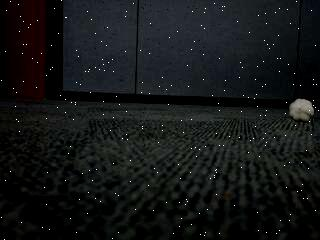Garlic: (288, 98, 315, 124)
